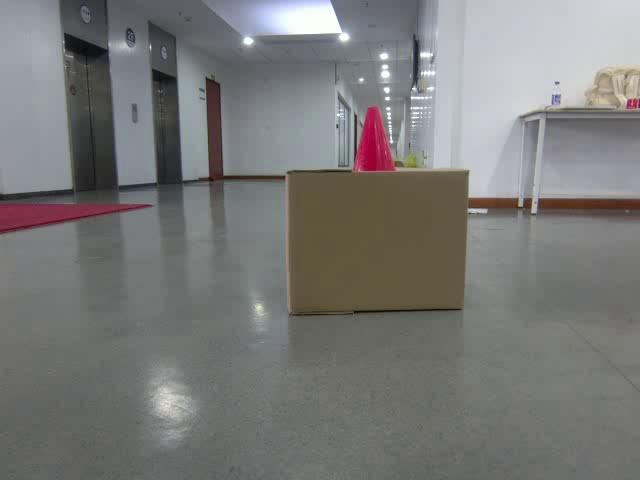red_barrel: (355, 105, 397, 172)
